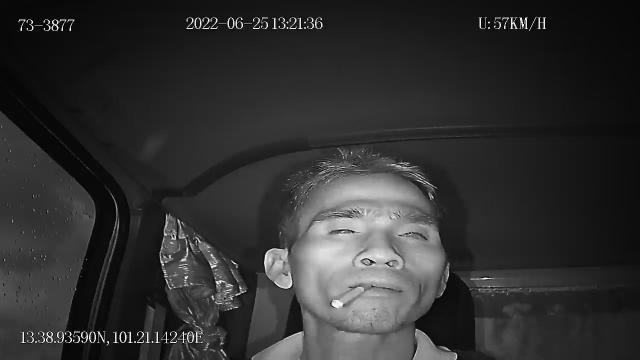SafeDriving: (390, 221, 437, 246), (321, 217, 366, 242)
Smoking: (331, 283, 371, 309)
